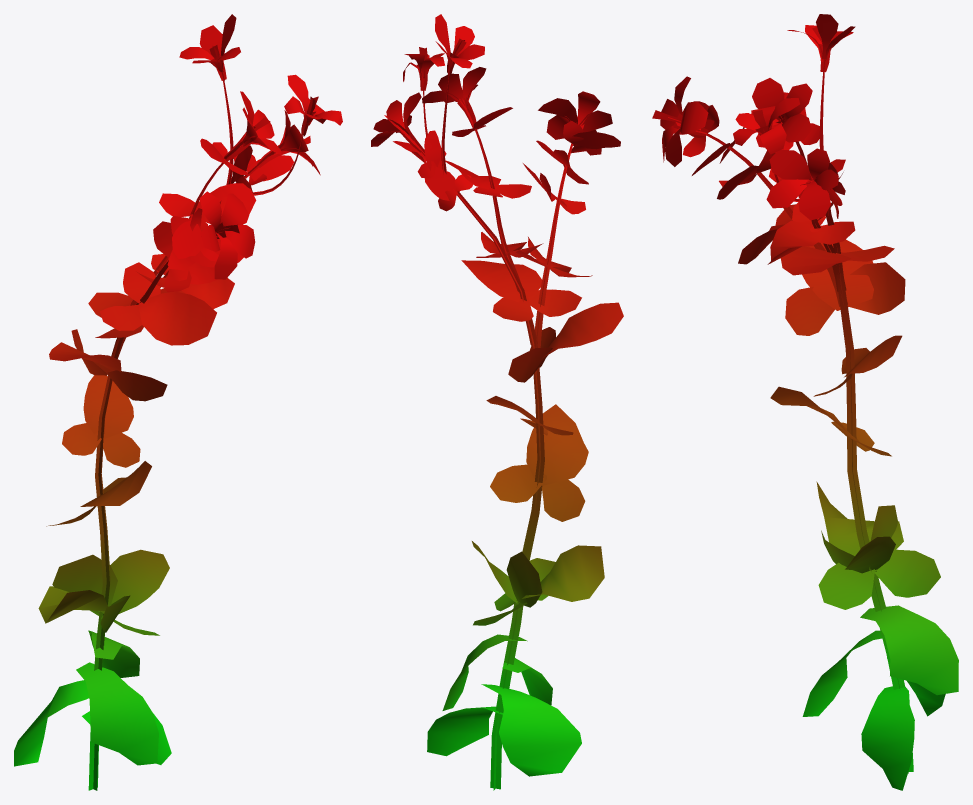
Rendered from Var2_LOD1.fbx.
3 renders of one model, left to right at view 1: azimuth 30°, elevation 25°; view 2: azimuth 150°, elevation 25°; view 3: azimuth 270°, elevation 25°, orthographic. The views are drawn at different scales.
Visible parts, largest first — view 1: _ec9f_Var2_LOD1; view 2: _ec9f_Var2_LOD1; view 3: _ec9f_Var2_LOD1.
Boxes of the visible parts, x1,y1,x2,y2 form: _ec9f_Var2_LOD1: [14, 14, 342, 790]; _ec9f_Var2_LOD1: [371, 14, 623, 790]; _ec9f_Var2_LOD1: [652, 14, 958, 790].
Bounding box in the file's own units: 45.45 × 130 × 44.6.
